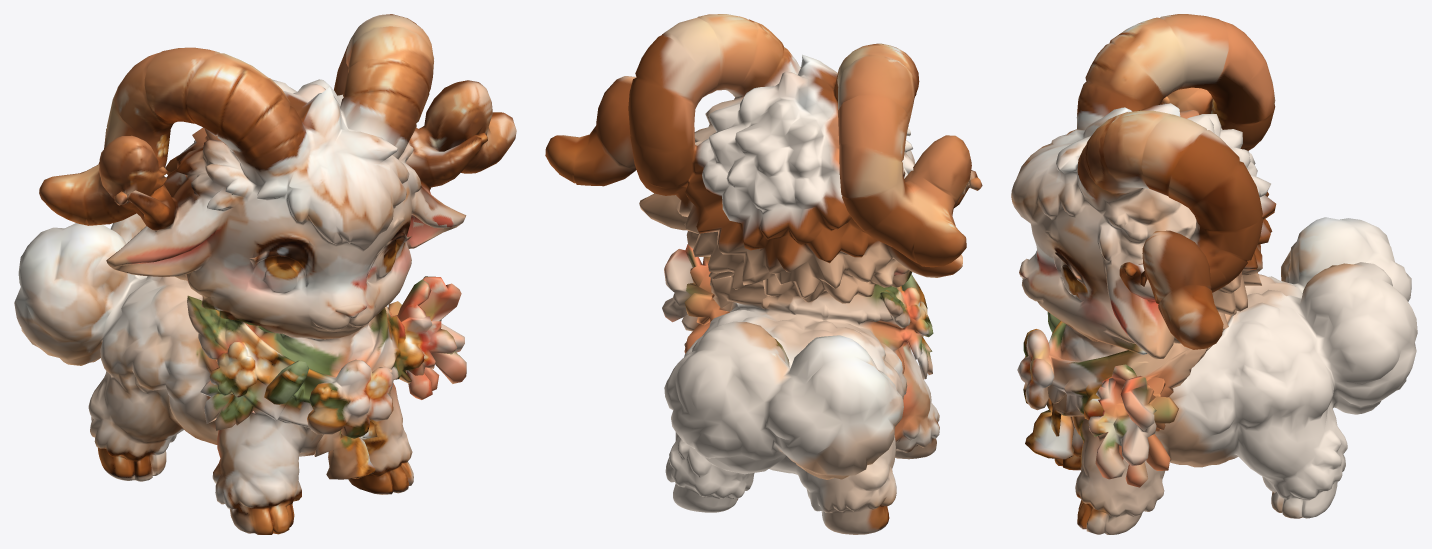
The model's file is original.glb.
3 views of the same model, side by side, from view 1: azimuth 30°, elevation 25°; view 2: azimuth 150°, elevation 25°; view 3: azimuth 270°, elevation 25° (orthographic). The views are drawn at different scales.
Parts seen in each view (by area): view 1: Body; view 2: Body; view 3: Body.
Part boxes in pixels (box(x1,y1,x2,y2)): Body: box(14, 14, 516, 534); Body: box(545, 14, 982, 534); Body: box(1011, 14, 1417, 534).
Size of the model in its own units: 0.9996 by 0.9403 by 0.7933.
1 material, 1 textured.
